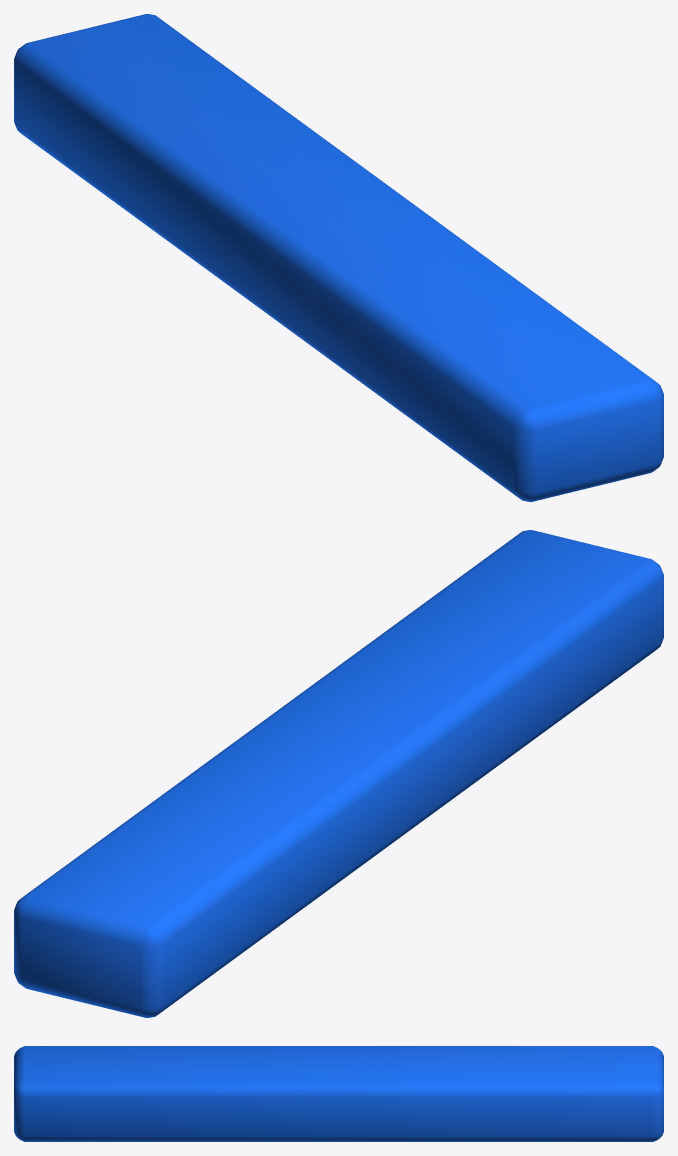
The model's file is LongBlockBlue.fbx.
The picture shows the model from 3 angles, top to bottom: view 1: azimuth 30°, elevation 25°; view 2: azimuth 150°, elevation 25°; view 3: azimuth 270°, elevation 25°; orthographic projection. The views are drawn at different scales.
Parts seen in each view (by area): view 1: LongBlock; view 2: LongBlock; view 3: LongBlock.
Boxes of the visible parts, x1,y1,x2,y2 form: LongBlock: (14, 14, 663, 501); LongBlock: (14, 530, 663, 1017); LongBlock: (14, 1046, 663, 1141).
Bounding box in the file's own units: 2 × 1.2 × 12.
